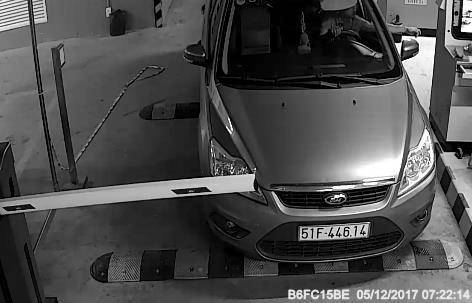License-plate: (289, 220, 382, 247)
